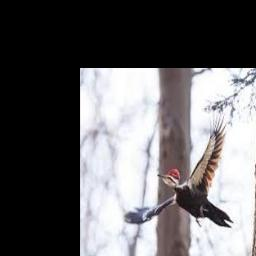Woodpecker: (124, 112, 233, 227)
